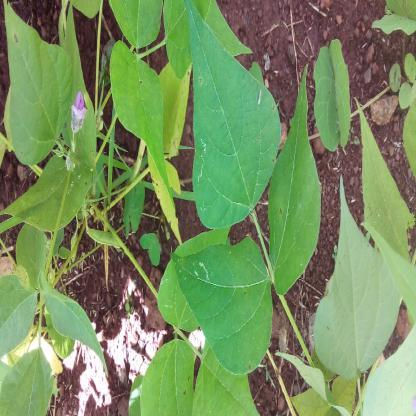Beans_Angular_LeafSpot: (171, 0, 284, 221), (167, 244, 274, 376)
